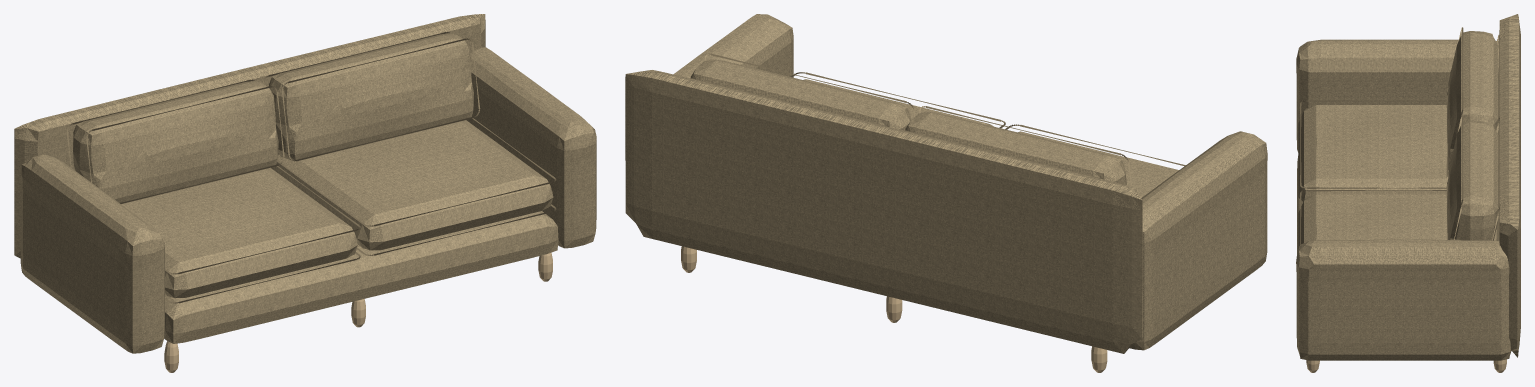
Rendered from SAB-SOF-3-seat.glb.
3 views of the same model, side by side, from view 1: azimuth 30°, elevation 25°; view 2: azimuth 150°, elevation 25°; view 3: azimuth 270°, elevation 25° (orthographic). The views are drawn at different scales.
Visible parts, largest first — view 1: seat-2:fabric:eyJwcmVzZXQiOiJib3VjbGUiLCJ3YXJwIjoic2FuZCIsIn, arm-pad-l:fabric:eyJwcmVzZXQiOiJib3VjbGUiLCJ3YXJwIjoic2FuZCI, seat-1:fabric:eyJwcmVzZXQiOiJib3VjbGUiLCJ3YXJwIjoic2FuZCIsIn, back-2:fabric:eyJwcmVzZXQiOiJib3VjbGUiLCJ3YXJwIjoic2FuZCIsIn, deck:fabric:eyJwcmVzZXQiOiJib3VjbGUiLCJ3YXJwIjoic2FuZCIsIndl, back-1:fabric:eyJwcmVzZXQiOiJib3VjbGUiLCJ3YXJwIjoic2FuZCIsIn, arm-pad-r:fabric:eyJwcmVzZXQiOiJib3VjbGUiLCJ3YXJwIjoic2FuZCI, back-pad:fabric:eyJwcmVzZXQiOiJib3VjbGUiLCJ3YXJwIjoic2FuZCIs, back-2:piping:pbr, back-1:piping:pbr, seat-2:piping:pbr, seat-1:piping:pbr; view 2: back-pad:fabric:eyJwcmVzZXQiOiJib3VjbGUiLCJ3YXJwIjoic2FuZCIs, arm-pad-l:fabric:eyJwcmVzZXQiOiJib3VjbGUiLCJ3YXJwIjoic2FuZCI, back-1:fabric:eyJwcmVzZXQiOiJib3VjbGUiLCJ3YXJwIjoic2FuZCIsIn, back-2:fabric:eyJwcmVzZXQiOiJib3VjbGUiLCJ3YXJwIjoic2FuZCIsIn, arm-pad-r:fabric:eyJwcmVzZXQiOiJib3VjbGUiLCJ3YXJwIjoic2FuZCI, seat-1:fabric:eyJwcmVzZXQiOiJib3VjbGUiLCJ3YXJwIjoic2FuZCIsIn, back-1:piping:pbr, seat-2:fabric:eyJwcmVzZXQiOiJib3VjbGUiLCJ3YXJwIjoic2FuZCIsIn, back-2:piping:pbr; view 3: arm-pad-r:fabric:eyJwcmVzZXQiOiJib3VjbGUiLCJ3YXJwIjoic2FuZCI, seat-1:fabric:eyJwcmVzZXQiOiJib3VjbGUiLCJ3YXJwIjoic2FuZCIsIn, arm-pad-l:fabric:eyJwcmVzZXQiOiJib3VjbGUiLCJ3YXJwIjoic2FuZCI, seat-2:fabric:eyJwcmVzZXQiOiJib3VjbGUiLCJ3YXJwIjoic2FuZCIsIn, back-pad:fabric:eyJwcmVzZXQiOiJib3VjbGUiLCJ3YXJwIjoic2FuZCIs, back-2:fabric:eyJwcmVzZXQiOiJib3VjbGUiLCJ3YXJwIjoic2FuZCIsIn, back-1:fabric:eyJwcmVzZXQiOiJib3VjbGUiLCJ3YXJwIjoic2FuZCIsIn, seat-1:piping:pbr, back-2:piping:pbr, back-1:piping:pbr, seat-2:piping:pbr, deck:fabric:eyJwcmVzZXQiOiJib3VjbGUiLCJ3YXJwIjoic2FuZCIsIndl.
Part boxes in pixels (x1,y1,x2,y2): seat-2:fabric:eyJwcmVzZXQiOiJib3VjbGUiLCJ3YXJwIjoic2FuZCIsIn: (271, 120, 553, 250); arm-pad-l:fabric:eyJwcmVzZXQiOiJib3VjbGUiLCJ3YXJwIjoic2FuZCI: (20, 154, 164, 353); seat-1:fabric:eyJwcmVzZXQiOiJib3VjbGUiLCJ3YXJwIjoic2FuZCIsIn: (121, 167, 357, 298); back-2:fabric:eyJwcmVzZXQiOiJib3VjbGUiLCJ3YXJwIjoic2FuZCIsIn: (269, 33, 473, 160); deck:fabric:eyJwcmVzZXQiOiJib3VjbGUiLCJ3YXJwIjoic2FuZCIsIndl: (164, 211, 558, 343); back-1:fabric:eyJwcmVzZXQiOiJib3VjbGUiLCJ3YXJwIjoic2FuZCIsIn: (73, 81, 278, 204); arm-pad-r:fabric:eyJwcmVzZXQiOiJib3VjbGUiLCJ3YXJwIjoic2FuZCI: (466, 47, 596, 248); back-pad:fabric:eyJwcmVzZXQiOiJib3VjbGUiLCJ3YXJwIjoic2FuZCIs: (14, 14, 485, 258); back-2:piping:pbr: (262, 32, 480, 161); back-1:piping:pbr: (66, 79, 284, 203); seat-2:piping:pbr: (277, 118, 556, 255); seat-1:piping:pbr: (165, 166, 360, 303); back-pad:fabric:eyJwcmVzZXQiOiJib3VjbGUiLCJ3YXJwIjoic2FuZCIs: (625, 70, 1142, 353); arm-pad-l:fabric:eyJwcmVzZXQiOiJib3VjbGUiLCJ3YXJwIjoic2FuZCI: (1129, 131, 1267, 350); back-1:fabric:eyJwcmVzZXQiOiJib3VjbGUiLCJ3YXJwIjoic2FuZCIsIn: (905, 111, 1126, 184); back-2:fabric:eyJwcmVzZXQiOiJib3VjbGUiLCJ3YXJwIjoic2FuZCIsIn: (690, 59, 910, 130); arm-pad-r:fabric:eyJwcmVzZXQiOiJib3VjbGUiLCJ3YXJwIjoic2FuZCI: (673, 14, 793, 78); seat-1:fabric:eyJwcmVzZXQiOiJib3VjbGUiLCJ3YXJwIjoic2FuZCIsIn: (1018, 131, 1178, 197); back-1:piping:pbr: (904, 106, 1131, 186); seat-2:fabric:eyJwcmVzZXQiOiJib3VjbGUiLCJ3YXJwIjoic2FuZCIsIn: (803, 79, 993, 126); back-2:piping:pbr: (690, 53, 915, 125); arm-pad-r:fabric:eyJwcmVzZXQiOiJib3VjbGUiLCJ3YXJwIjoic2FuZCI: (1296, 239, 1511, 360); seat-1:fabric:eyJwcmVzZXQiOiJib3VjbGUiLCJ3YXJwIjoic2FuZCIsIn: (1298, 105, 1499, 203); arm-pad-l:fabric:eyJwcmVzZXQiOiJib3VjbGUiLCJ3YXJwIjoic2FuZCI: (1296, 39, 1499, 152); seat-2:fabric:eyJwcmVzZXQiOiJib3VjbGUiLCJ3YXJwIjoic2FuZCIsIn: (1298, 194, 1499, 249); back-pad:fabric:eyJwcmVzZXQiOiJib3VjbGUiLCJ3YXJwIjoic2FuZCIs: (1499, 14, 1520, 357); back-2:fabric:eyJwcmVzZXQiOiJib3VjbGUiLCJ3YXJwIjoic2FuZCIsIn: (1447, 120, 1498, 240); back-1:fabric:eyJwcmVzZXQiOiJib3VjbGUiLCJ3YXJwIjoic2FuZCIsIn: (1447, 31, 1498, 170); seat-1:piping:pbr: (1300, 100, 1446, 208); back-2:piping:pbr: (1446, 117, 1499, 240); back-1:piping:pbr: (1446, 27, 1499, 178); seat-2:piping:pbr: (1300, 190, 1496, 244); deck:fabric:eyJwcmVzZXQiOiJib3VjbGUiLCJ3YXJwIjoic2FuZCIsIndl: (1297, 156, 1498, 254).
Bounding box in the file's own units: 2.1 × 0.78 × 0.92.
Materials: 18 (8 with a texture image).
